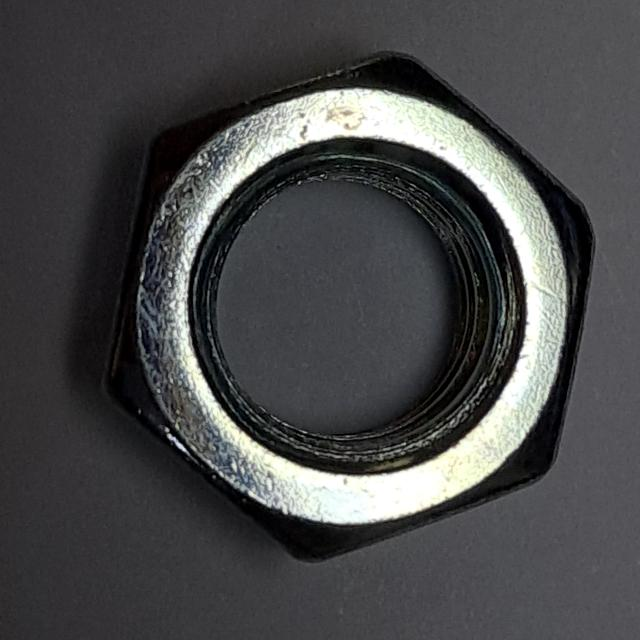Excellent: (83, 38, 606, 581)
